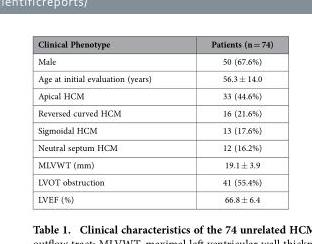table: (37, 37, 272, 205)
table column: (37, 37, 180, 205), (180, 37, 272, 205)
table column header: (37, 37, 272, 52)
table row: (37, 86, 272, 104), (37, 155, 272, 173), (37, 52, 272, 69), (37, 69, 272, 86), (37, 104, 272, 121), (37, 121, 272, 138), (37, 138, 272, 155), (37, 173, 272, 190), (37, 37, 272, 52), (37, 190, 272, 205)
